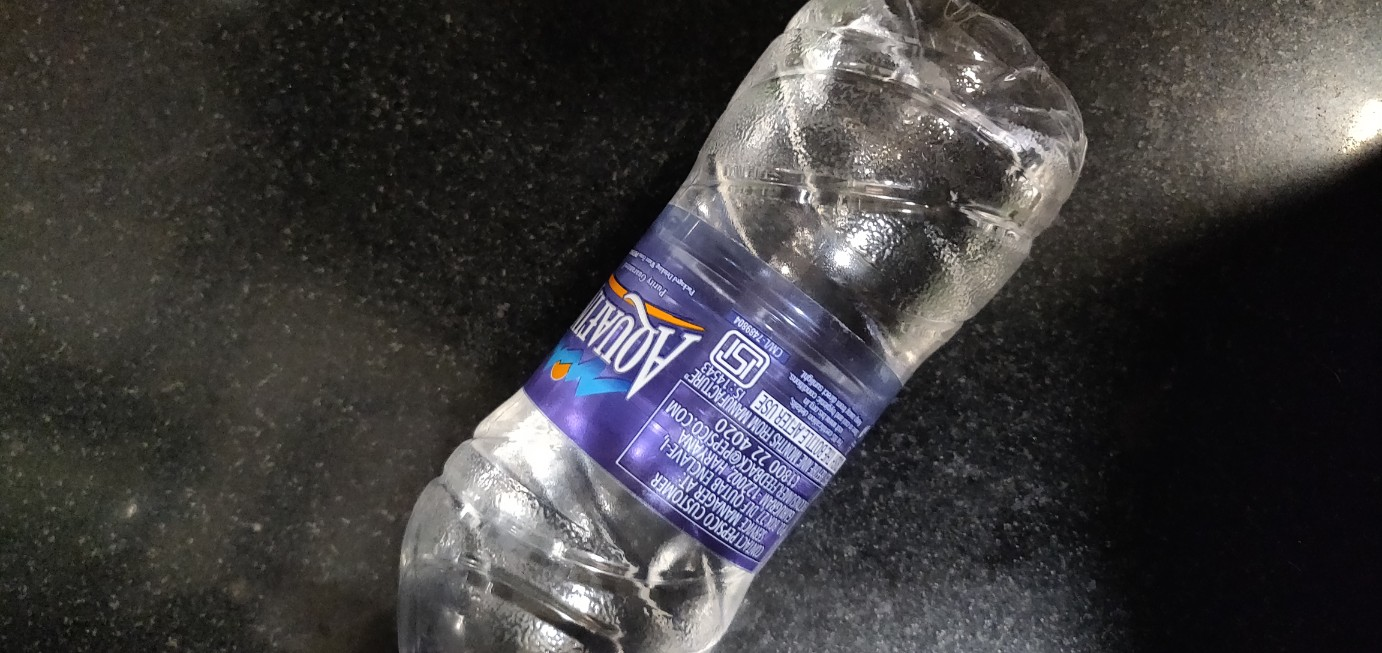Electronics: (370, 2, 1098, 649)
